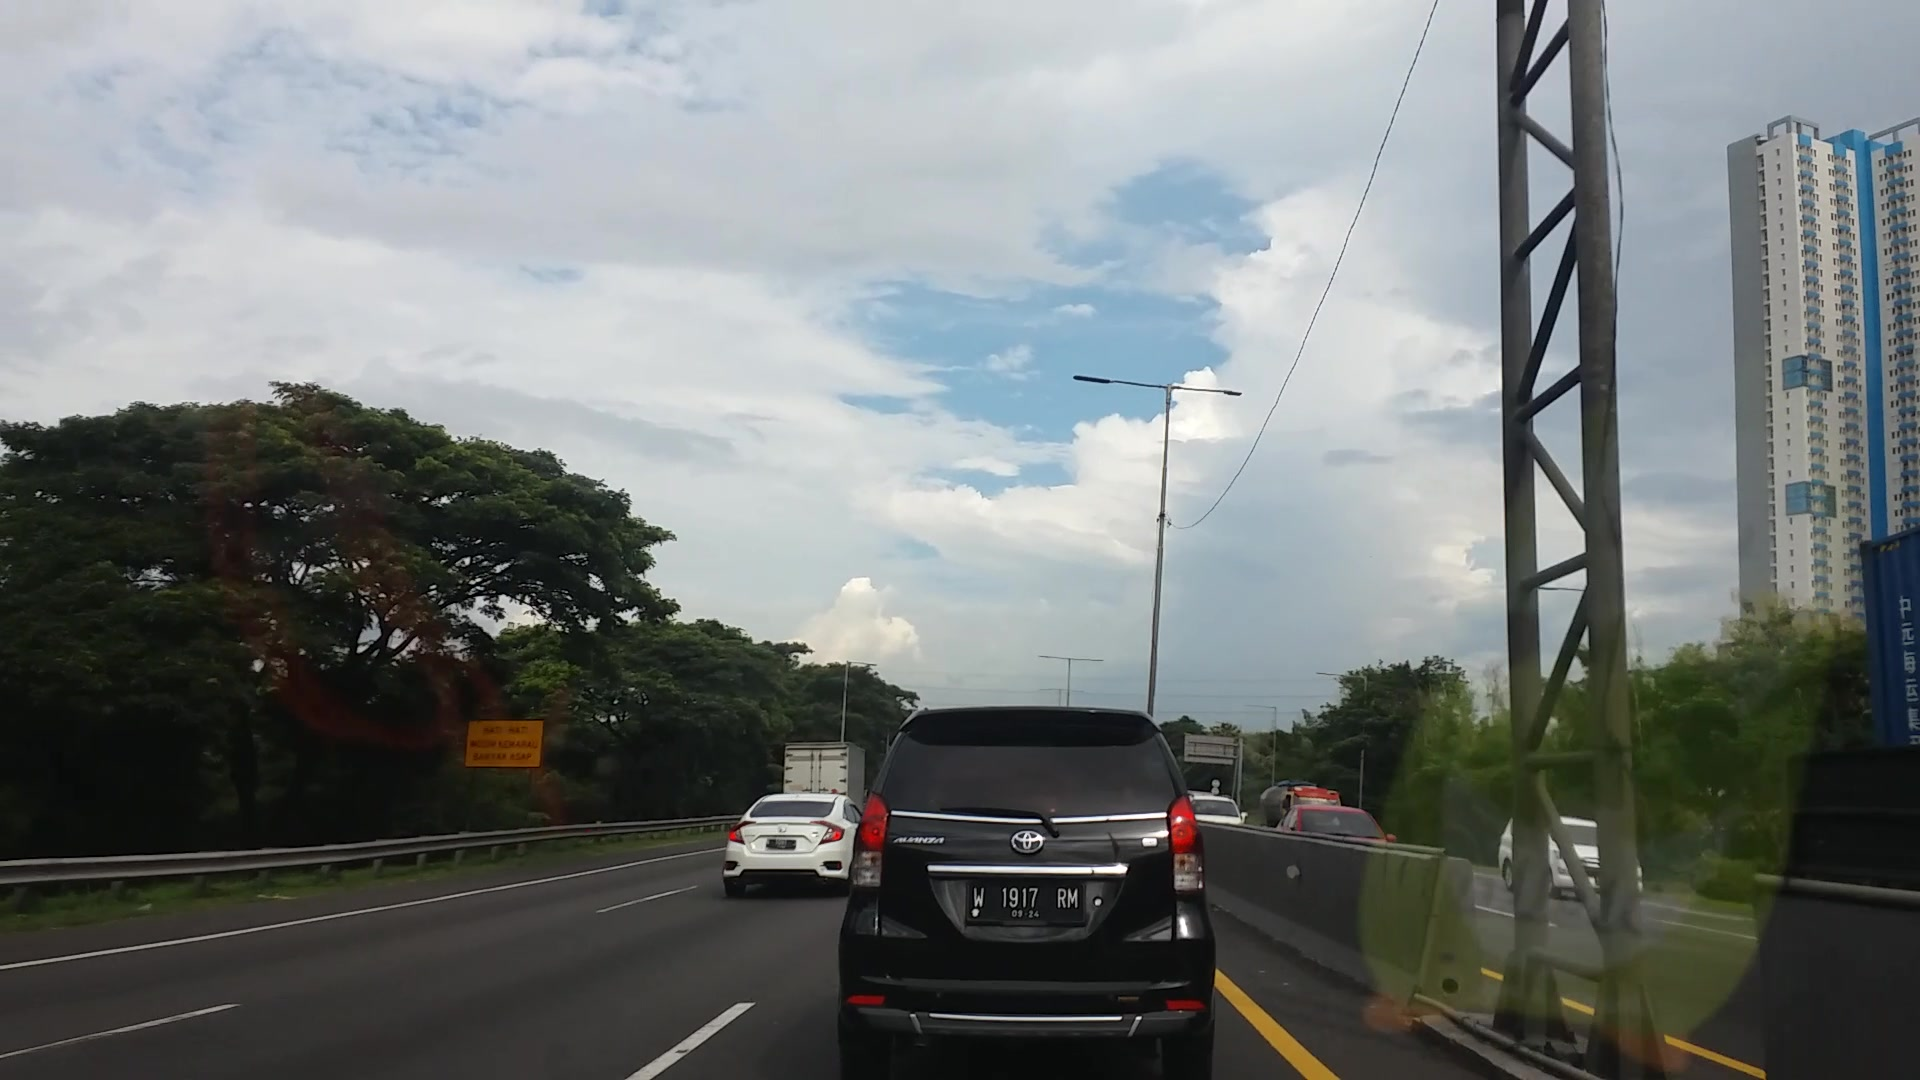plate_positive: (964, 877, 1087, 928)
